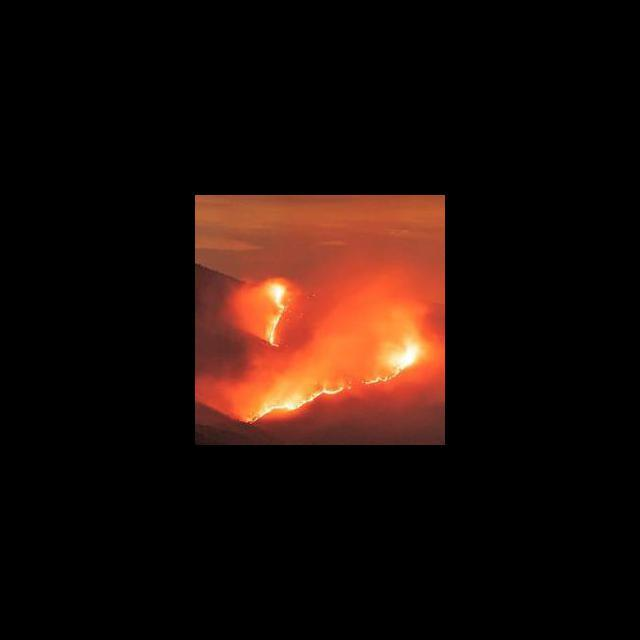Fire: (246, 348, 420, 425), (262, 280, 290, 347)
